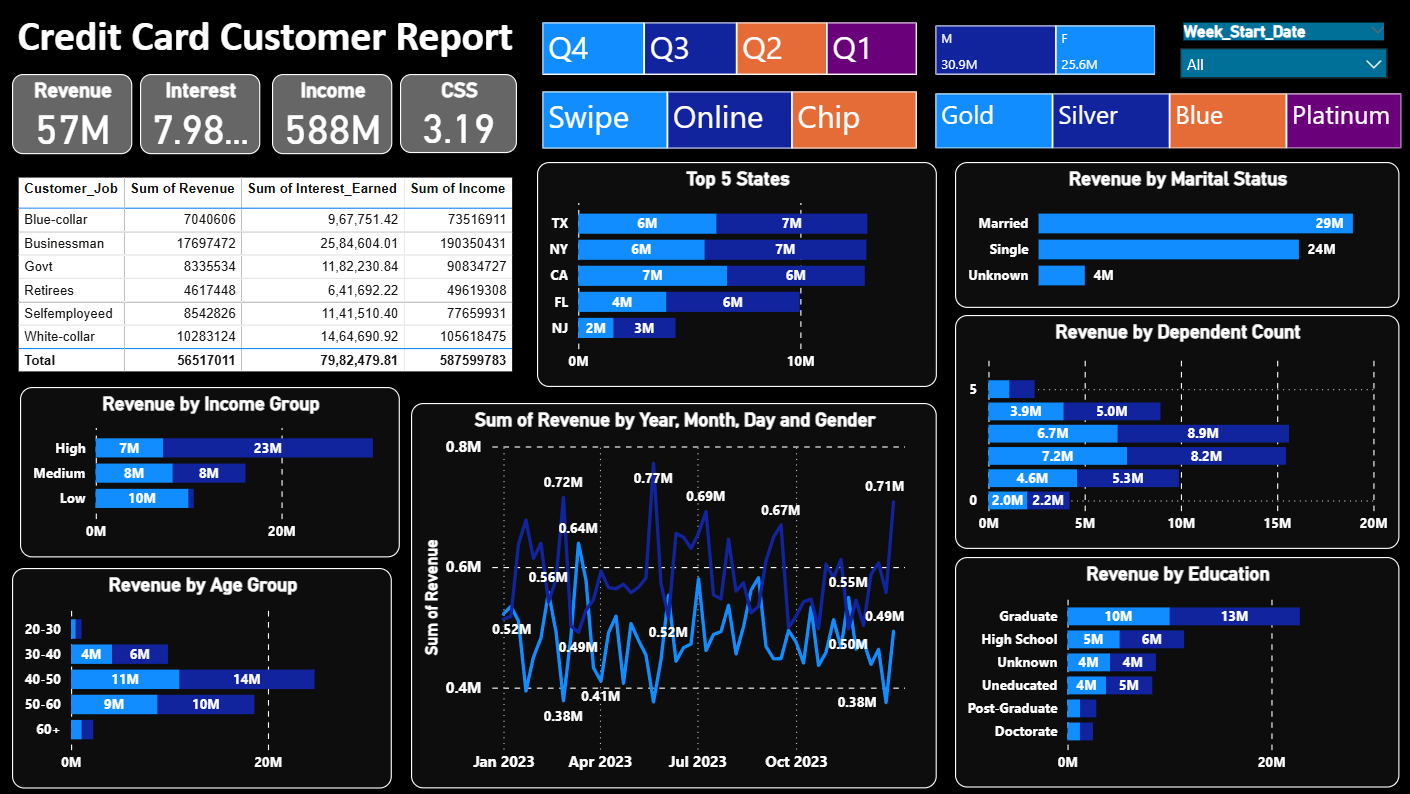

This screenshot's page, from the dashboard's own definition file:
{"tool":"powerbi","page":{"name":"CC Customer","canvas":[1280,720],"ordinal":1},"visuals":[{"type":"textbox","box":[17.1,7.2,471.3,62.8],"z":0},{"type":"barChart","title":"Revenue by Income Group","fields":{"Y":["Sum(ccdb cc_detail.Revenue)"],"Category":["ccdb cust_detail.IncomeGroup"],"Series":["ccdb cust_detail.Gender"]},"box":[24.2,351,341.1,152.6],"z":1000},{"type":"tableEx","fields":{"Values":["ccdb cust_detail.Customer_Job","Sum(ccdb cc_detail.Revenue)","Sum(ccdb cc_detail.Interest_Earned)","Sum(ccdb cust_detail.Income)"]},"box":[17.1,158,463.2,193],"z":2000},{"type":"treemap","fields":{"Values":["Avg(ccdb cc_detail.Client_Num)"],"Group":["ccdb cc_detail.Card_Category"]},"box":[841.2,82.6,428.2,59.3],"z":4000},{"type":"card","title":"Interest","fields":{"Values":["Sum(ccdb cc_detail.Interest_Earned)"]},"box":[132,70,107.7,71.8],"z":5000},{"type":"card","title":"CSS","fields":{"Values":["Avg(ccdb cust_detail.Cust_Satisfaction_Score)"]},"box":[365.4,70,105,70.9],"z":7000},{"type":"card","title":"Income","fields":{"Values":["Sum(ccdb cust_detail.Income)"]},"box":[250.5,70,107.7,71.8],"z":8000},{"type":"lineChart","fields":{"Y":["Sum(ccdb cc_detail.Revenue)"],"Series":["ccdb cust_detail.Gender"],"Category":["ccdb cc_detail.Week_Start_Date.Variation.Date Hierarchy.Year","ccdb cc_detail.Week_Start_Date.Variation.Date Hierarchy.Month","ccdb cc_detail.Week_Start_Date.Variation.Date Hierarchy.Day"]},"box":[375.3,365.4,472.2,345.6],"z":10000},{"type":"treemap","fields":{"Group":["ccdb cust_detail.Gender"],"Values":["Sum(ccdb cc_detail.Revenue)"]},"box":[841.2,21.5,207.4,53.9],"z":11000},{"type":"barChart","title":"Revenue by Age Group","fields":{"Y":["Sum(ccdb cc_detail.Revenue)"],"Category":["ccdb cust_detail.AgeGroup"],"Series":["ccdb cust_detail.Gender"]},"box":[17.1,513.5,341.1,197.5],"z":12000},{"type":"barChart","title":"Revenue by Education","fields":{"Y":["Sum(ccdb cc_detail.Revenue)"],"Category":["ccdb cust_detail.Education_Level"],"Series":["ccdb cust_detail.Gender"]},"box":[863.6,503.6,398.6,207.4],"z":13000},{"type":"barChart","title":"Revenue by Dependent Count","fields":{"Y":["Sum(ccdb cc_detail.Revenue)"],"Category":["ccdb cust_detail.Dependent_Count"],"Series":["ccdb cust_detail.Gender"]},"box":[863.6,286.4,398.6,210.1],"z":14000},{"type":"barChart","title":"Top 5 States","fields":{"Y":["Sum(ccdb cc_detail.Revenue)"],"Category":["ccdb cust_detail.State_cd"],"Series":["ccdb cust_detail.Gender"]},"box":[488.4,149,359.1,202],"z":15000},{"type":"barChart","title":"Revenue by Marital Status","fields":{"Y":["Sum(ccdb cc_detail.Revenue)"],"Category":["ccdb cust_detail.Marital_Status"]},"box":[863.6,149,398.6,131.1],"z":16000},{"type":"treemap","fields":{"Values":["Avg(ccdb cc_detail.Client_Num)"],"Group":["ccdb cc_detail.Use_Chip"]},"box":[488.4,80.8,345.6,61],"z":17000},{"type":"card","title":"Revenue","fields":{"Values":["Sum(ccdb cc_detail.Revenue)"]},"box":[17.1,70,107.7,71.8],"z":17001},{"type":"slicer","fields":{"Values":["ccdb cc_detail.Week_Start_Date"]},"box":[1055.8,18.9,206.5,56.6],"z":17002},{"type":"treemap","fields":{"Values":["Avg(ccdb cc_detail.Client_Num)"],"Group":["ccdb cc_detail.Qtr"]},"box":[488.4,18.9,345.6,56.6],"z":17003}]}

Visuals, with their boxes in screenshot pixels (x1, y1, x2, y2), scaled from the page's 1280x720 canvas onto the 1410x794 screenshot:
textbox: <box>19,8,538,77</box>
"Revenue by Income Group" barChart: <box>27,387,402,555</box>
tableEx - ccdb cust_detail.Customer_Job x Sum(ccdb cc_detail.Revenue): <box>19,174,529,387</box>
treemap - Avg(ccdb cc_detail.Client_Num) x ccdb cc_detail.Card_Category: <box>927,91,1398,156</box>
"Interest" card: <box>145,77,264,156</box>
"CSS" card: <box>403,77,518,155</box>
"Income" card: <box>276,77,395,156</box>
lineChart - Sum(ccdb cc_detail.Revenue) x ccdb cust_detail.Gender: <box>413,403,934,784</box>
treemap - ccdb cust_detail.Gender x Sum(ccdb cc_detail.Revenue): <box>927,24,1155,83</box>
"Revenue by Age Group" barChart: <box>19,566,395,784</box>
"Revenue by Education" barChart: <box>951,555,1390,784</box>
"Revenue by Dependent Count" barChart: <box>951,316,1390,548</box>
"Top 5 States" barChart: <box>538,164,934,387</box>
"Revenue by Marital Status" barChart: <box>951,164,1390,309</box>
treemap - Avg(ccdb cc_detail.Client_Num) x ccdb cc_detail.Use_Chip: <box>538,89,919,156</box>
"Revenue" card: <box>19,77,137,156</box>
slicer - ccdb cc_detail.Week_Start_Date: <box>1163,21,1391,83</box>
treemap - Avg(ccdb cc_detail.Client_Num) x ccdb cc_detail.Qtr: <box>538,21,919,83</box>
